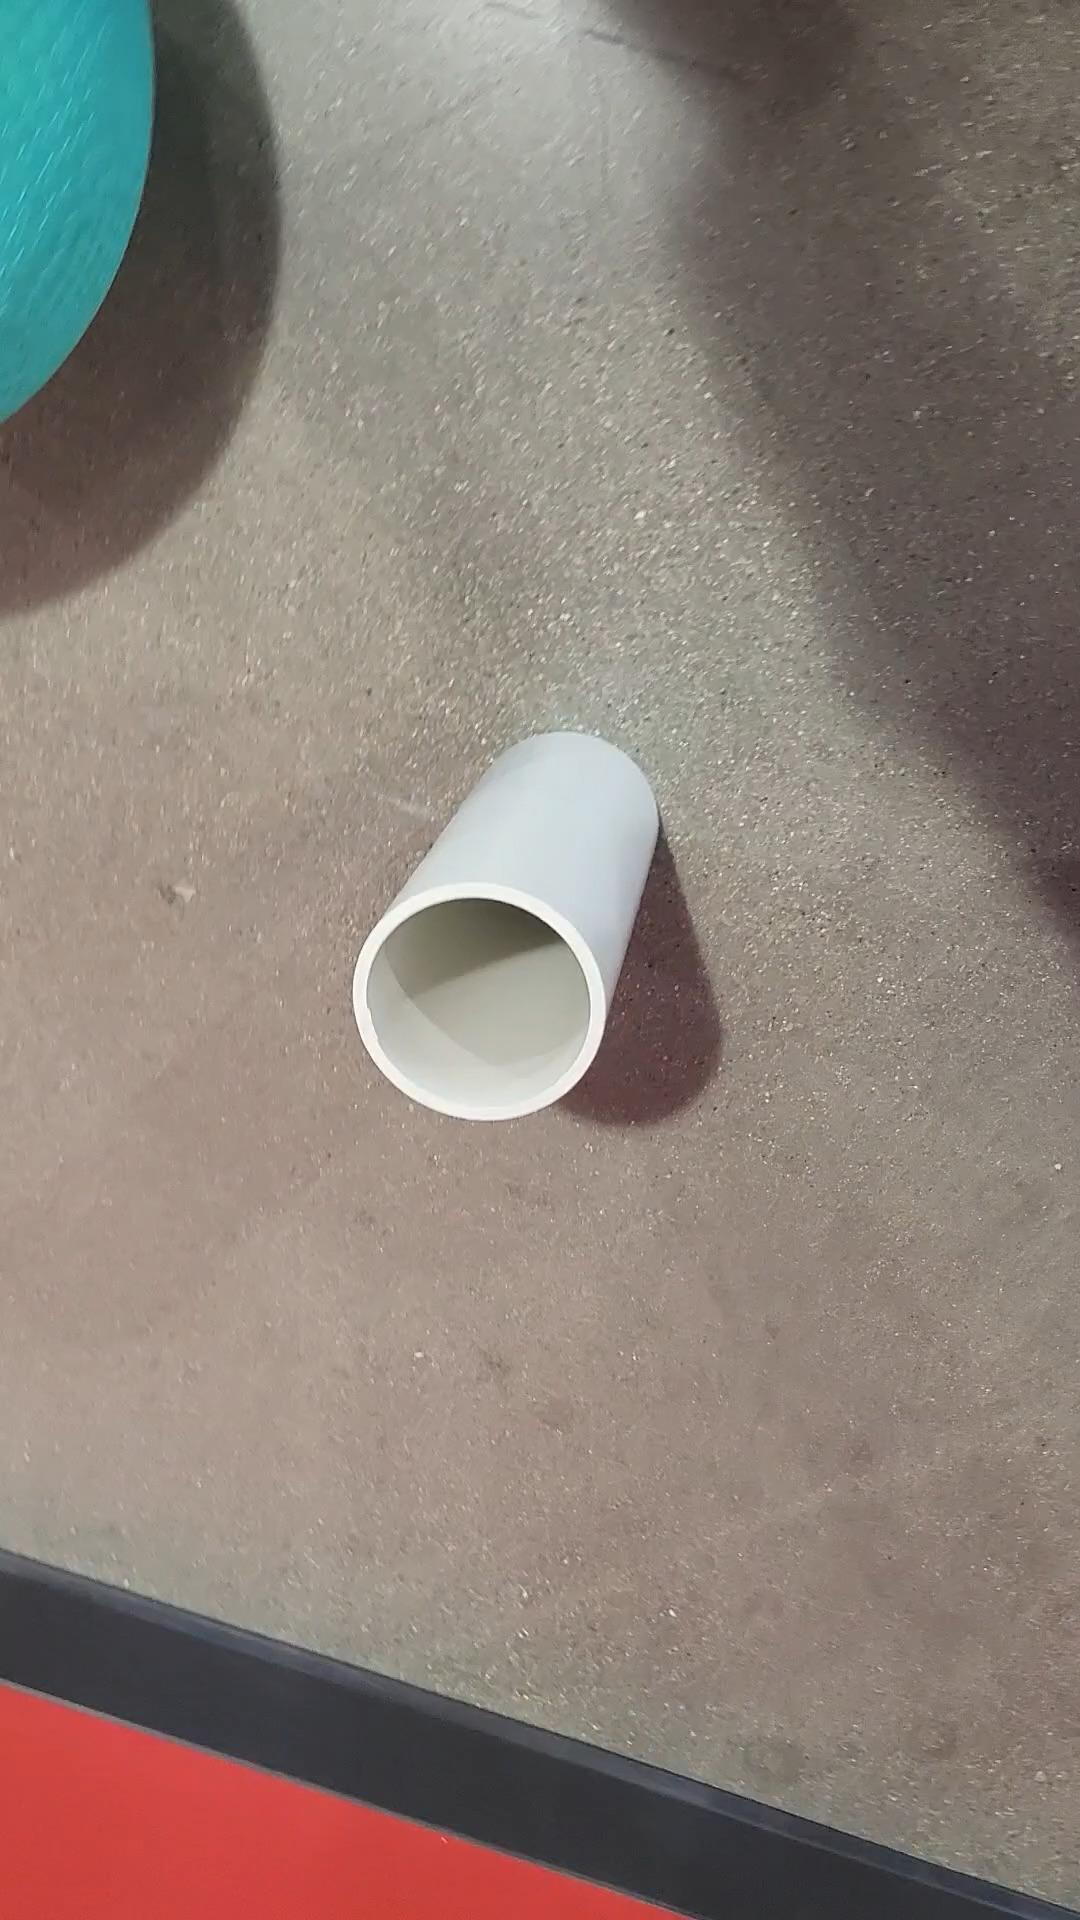coral: (352, 732, 658, 1113)
